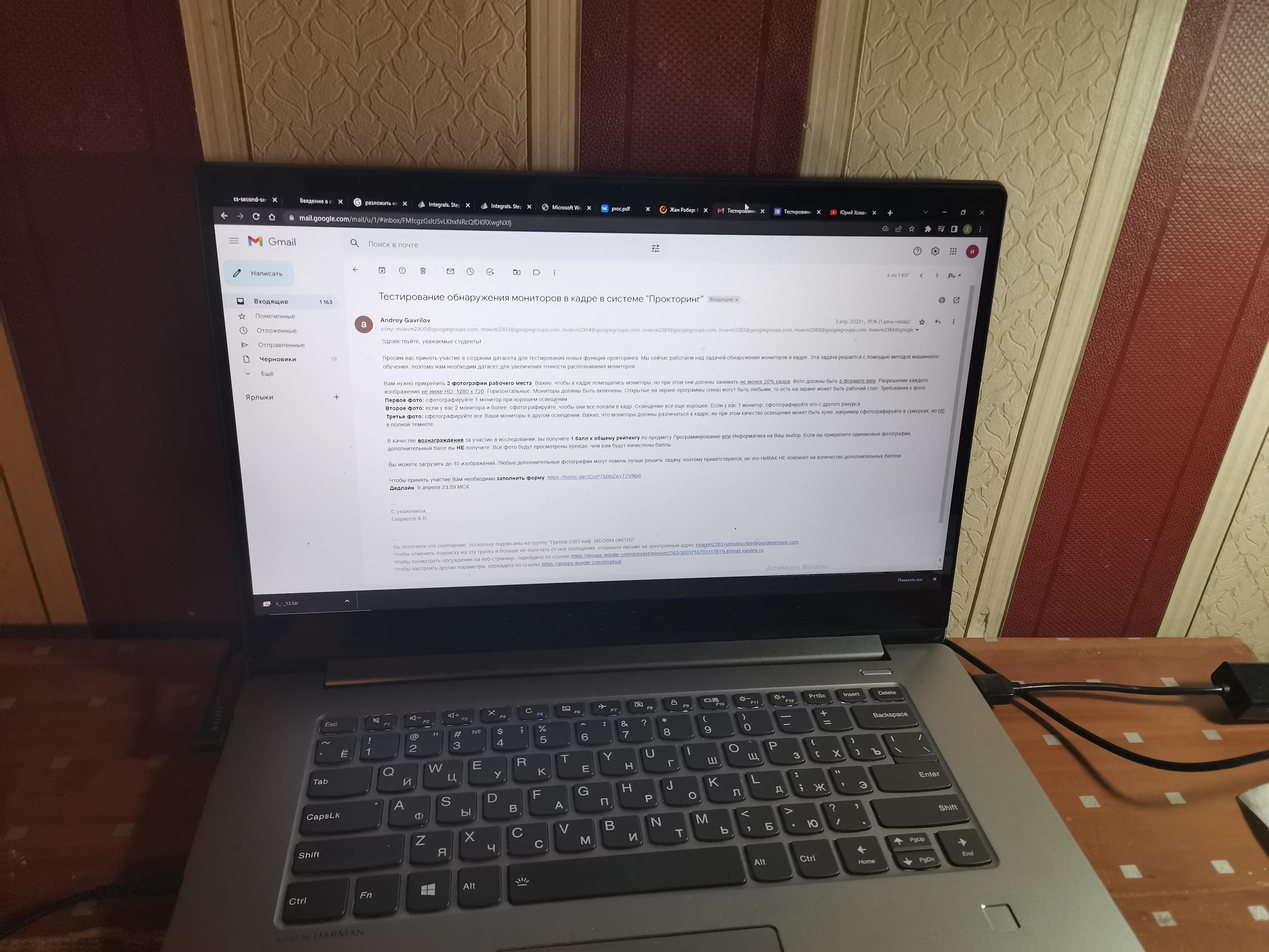monitor: (190, 154, 1017, 670)
